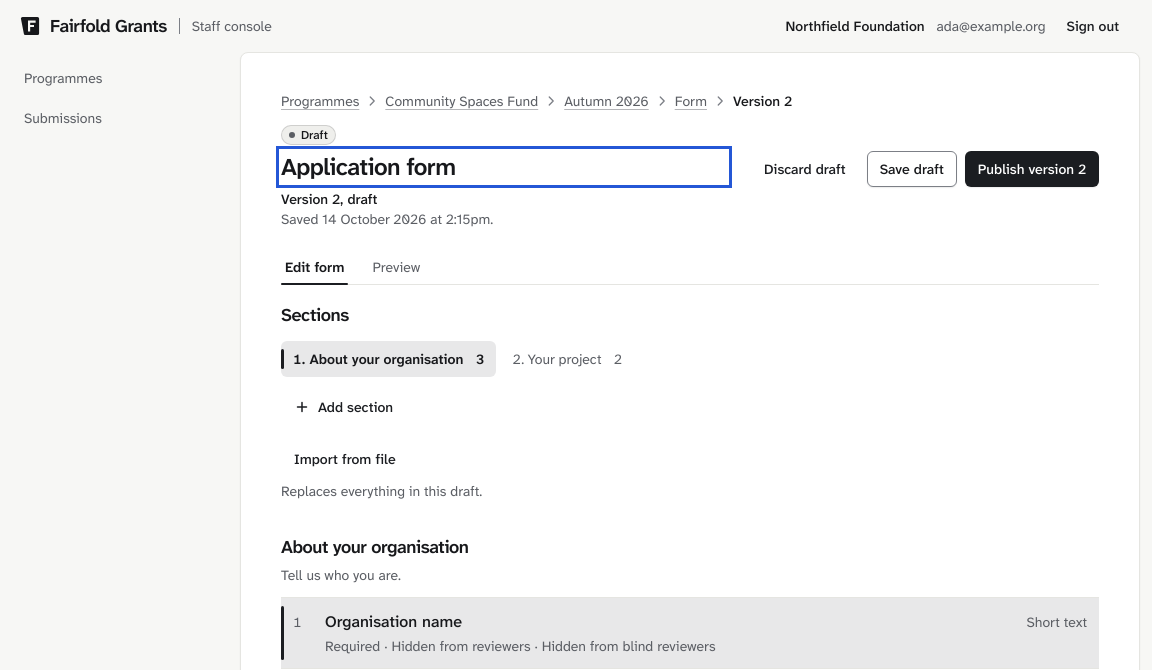
it: publishing a draft › asks first, saying that a published version cannot change and that new applications use it
Expected: the heading "Application form" is shown, [281,151,455,183]
Expected: the text "Version 2, draft" is shown, [281,190,377,208]
Click the button "Publish version 2" at {"x": 1032, "y": 169}, box [965,151,1099,187]
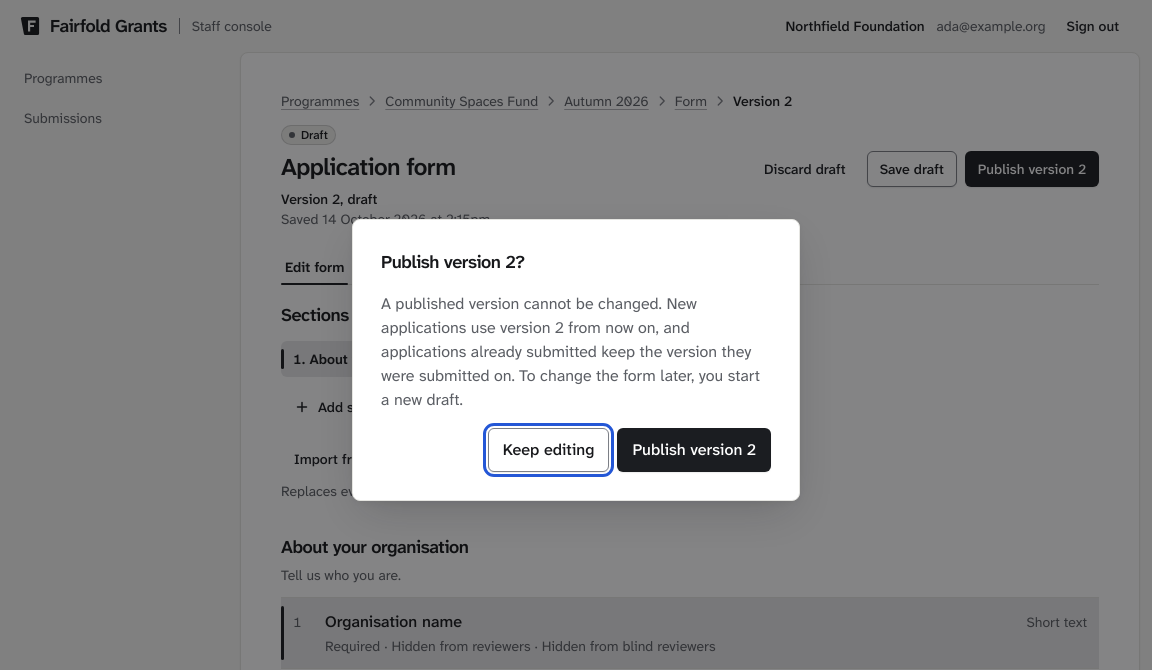
Expected: the dialog "Publish version 2?" shows "A published version cannot be changed.", [381,293,760,410]
Expected: the dialog "Publish version 2?" shows "New applications use version 2 from now on", [381,293,760,410]
Expected: the dialog "Publish version 2?" shows "keep the version they were submitted on", [381,293,760,410]
Click the button "Keep editing" at {"x": 549, "y": 450}, box [488,428,609,472]
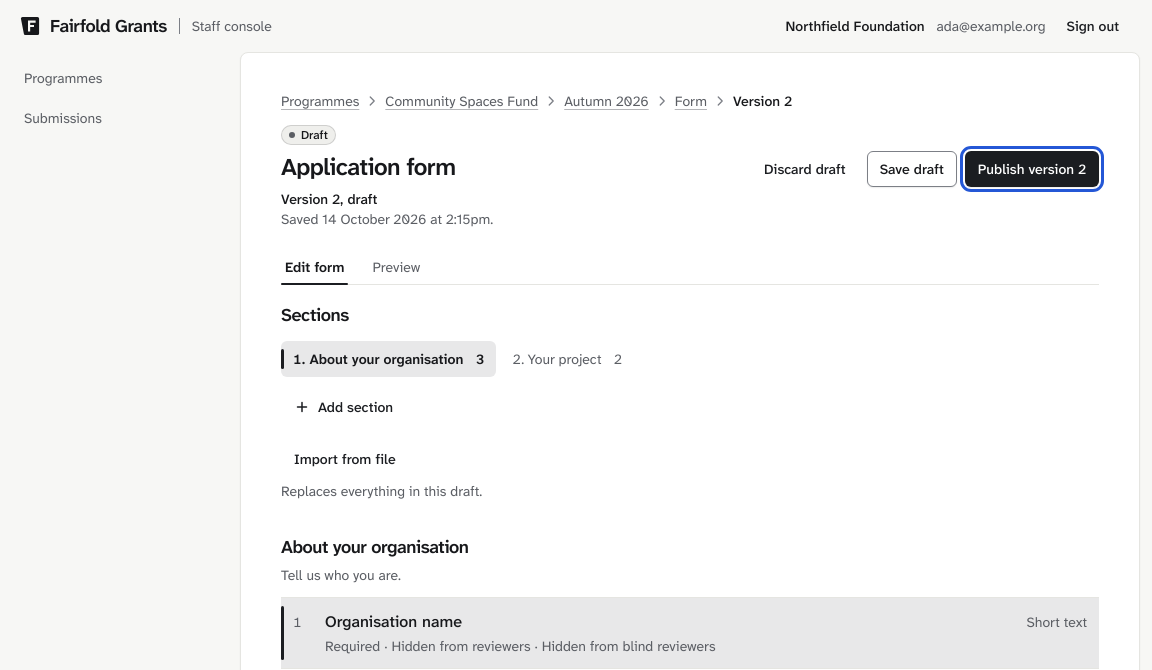
Expected: the dialog is gone
